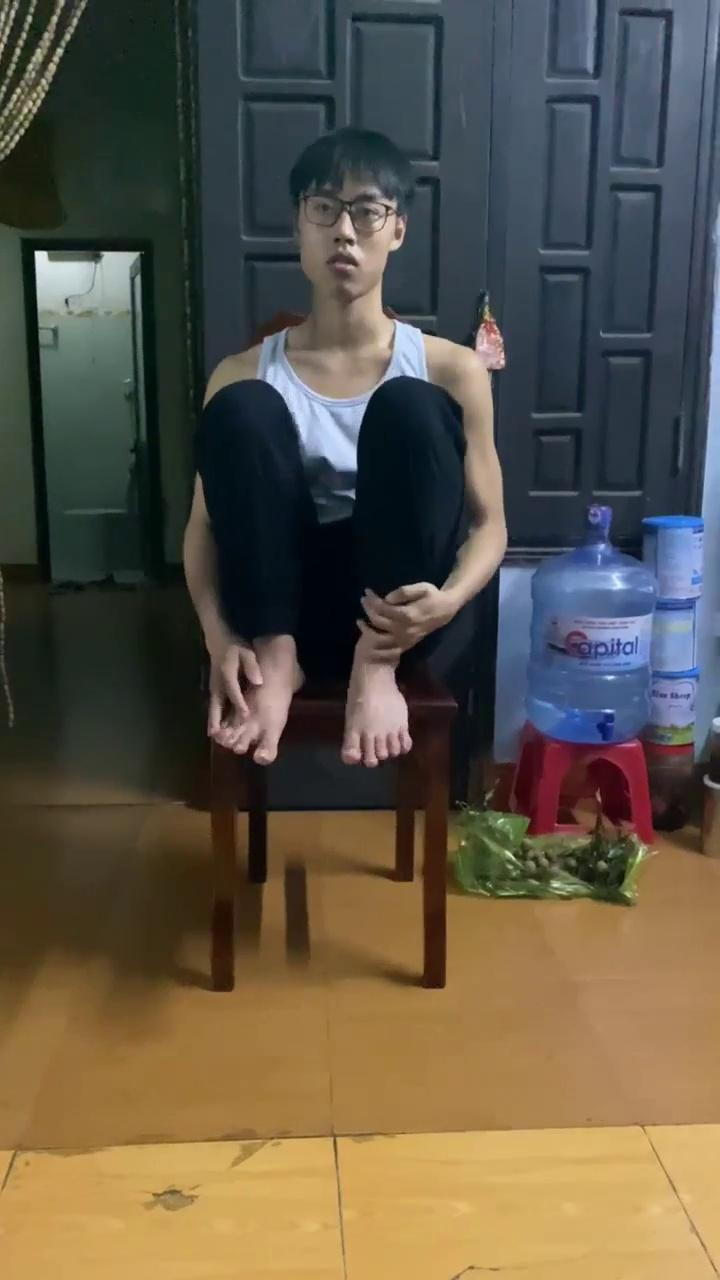BadPosture: (197, 376, 466, 680)
